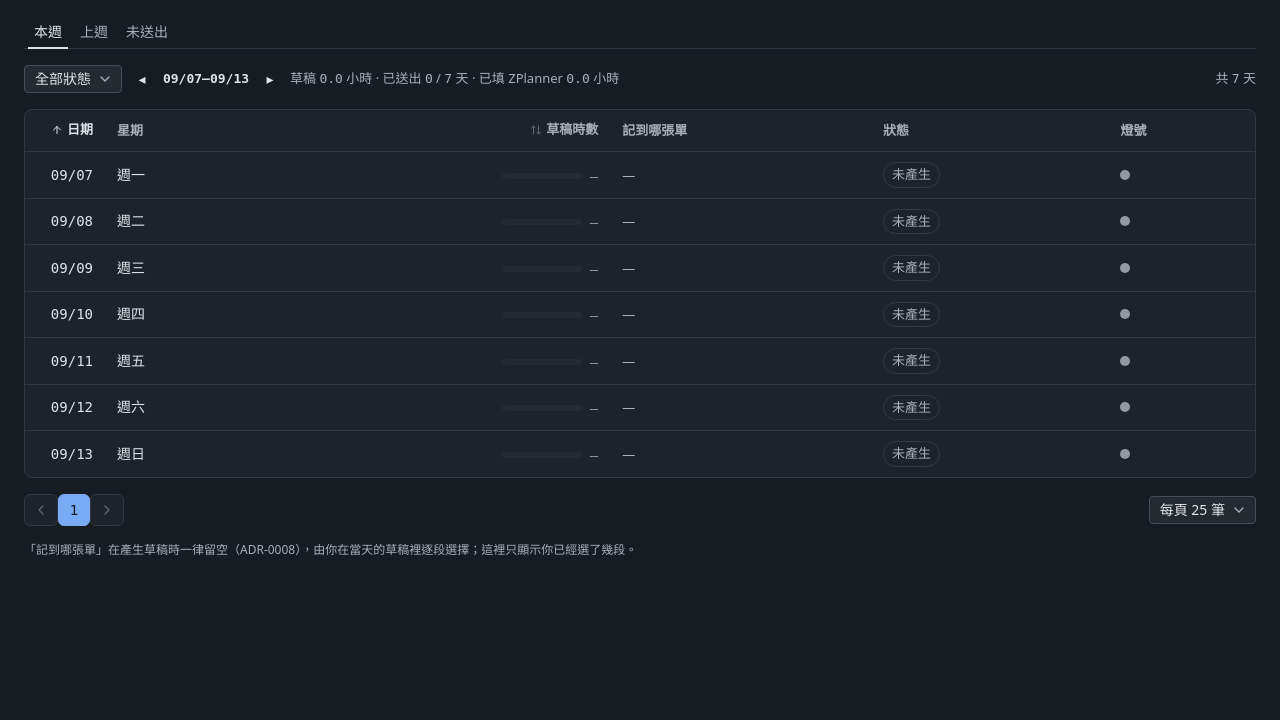
Test: 翻週：可以翻到任何一週（與舊週欄同一套行為） › 翻到兩週前：打的是那一週的 API、畫的是那一週；tab 一顆都不亮；「回到本週」回得來
This screenshot has width=1280, height=720.
Expected: the button "回到本週" is not shown
What coordinates should you click on to do the following:
click the button named "上一週"
I would click on:
 (142, 79)
Its box is [130,67,154,91].
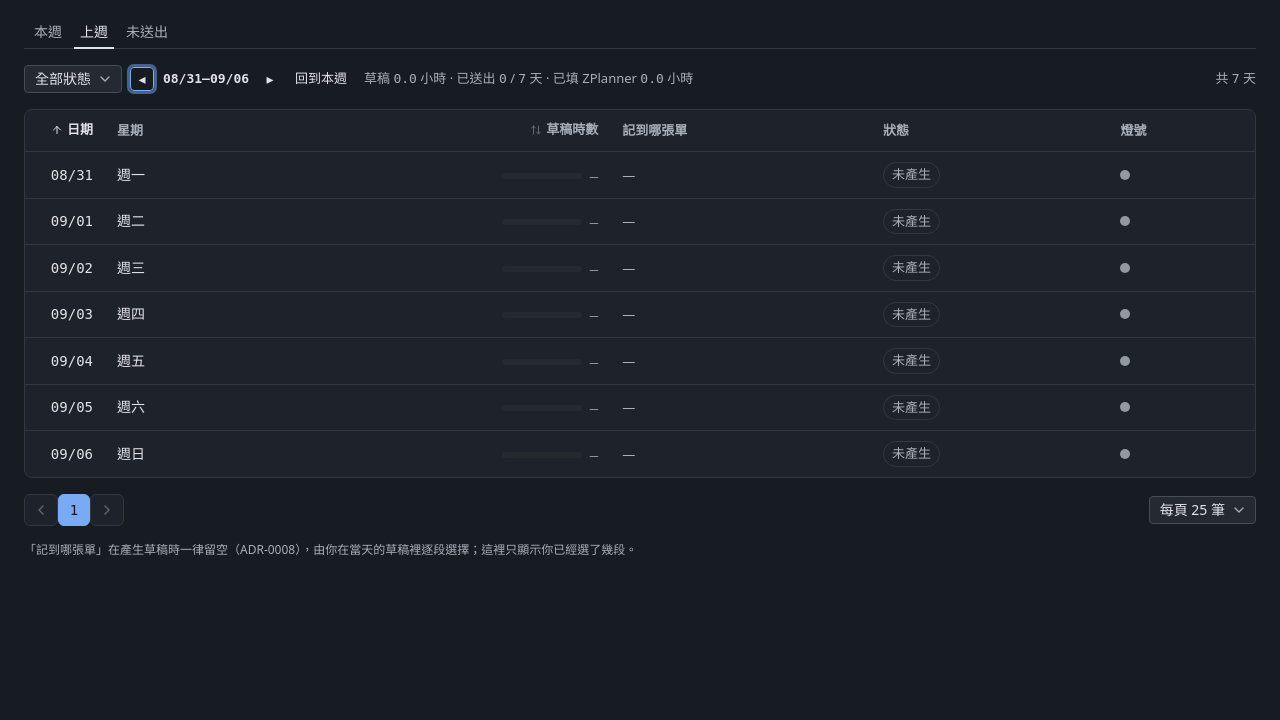
Expected: the text "08/31" is shown, [25,152,105,198]
What coordinates should you click on to do the following:
click the button named "上一週"
I would click on:
 (142, 79)
Its box is [130,67,154,91].
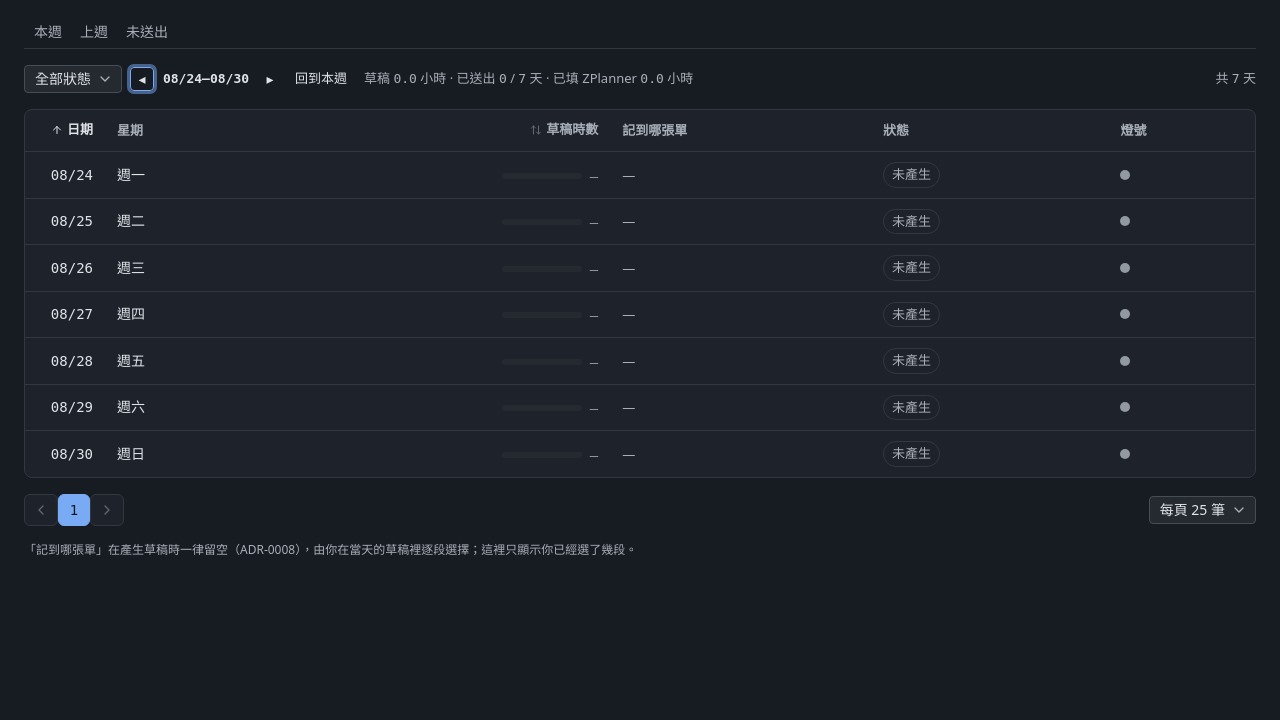
Expected: the text "08/24" is shown, [25,152,105,198]
Expected: the heading named "週次" reads "08/24–08/30", [163,71,249,86]
What coordinates should you click on to do the following:
click the button named "下一週"
I would click on:
 (270, 79)
Its box is [258,67,282,91].
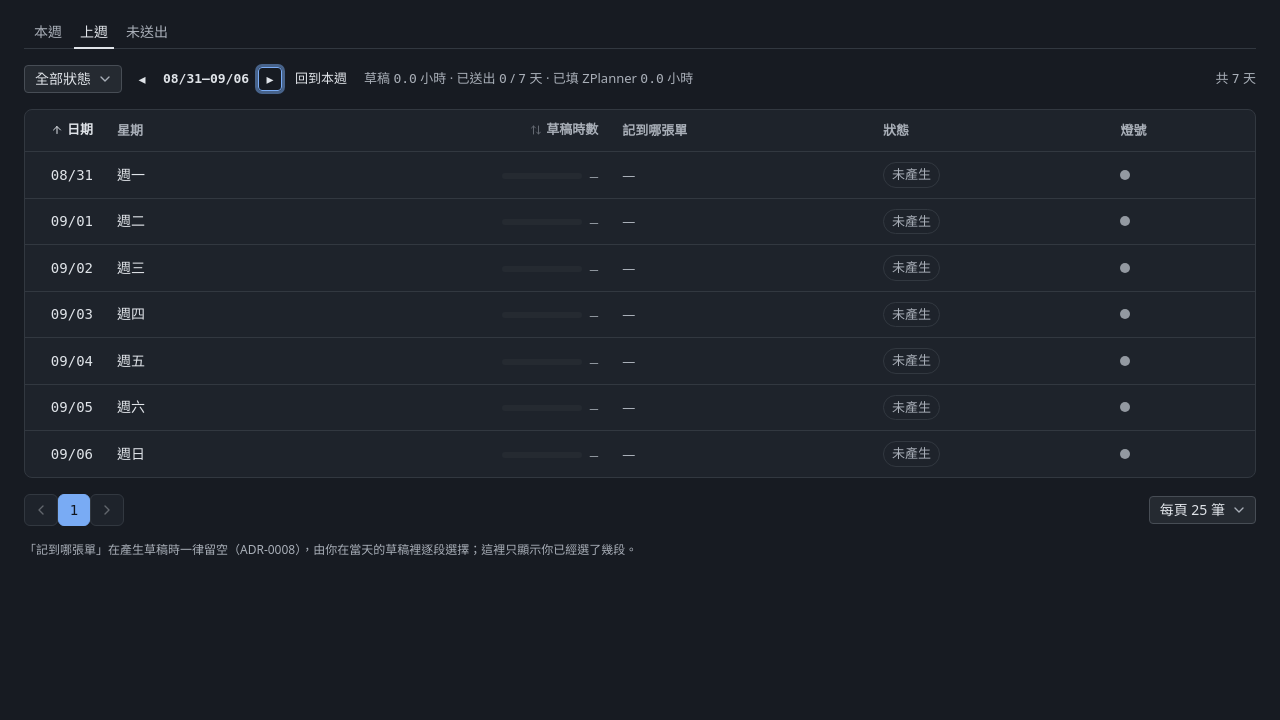
Expected: the text "08/31" is shown, [25,152,105,198]
What coordinates should you click on to do the following:
click the button named "上一週"
I would click on:
 (142, 79)
Its box is [130,67,154,91].
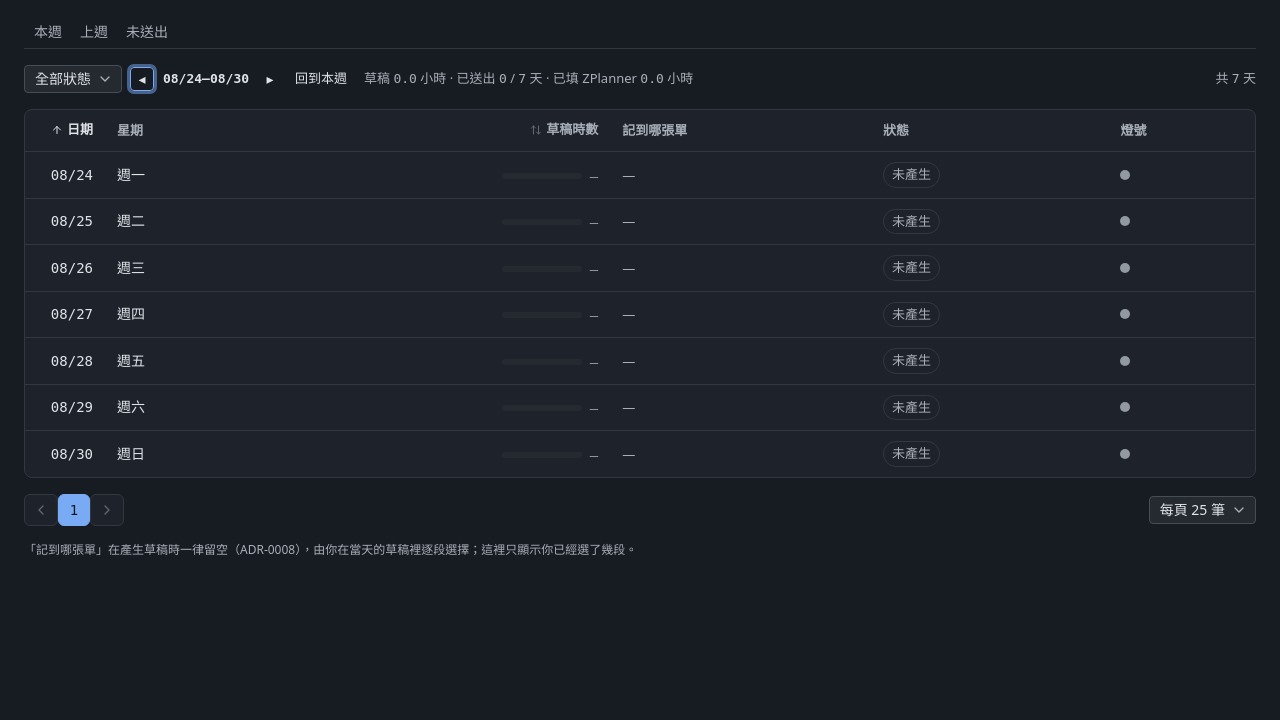
Expected: the text "08/24" is shown, [25,152,105,198]
What coordinates should you click on to do the following:
click the button "回到本週"
I would click on:
 (321, 79)
Its box is [286,67,356,91].
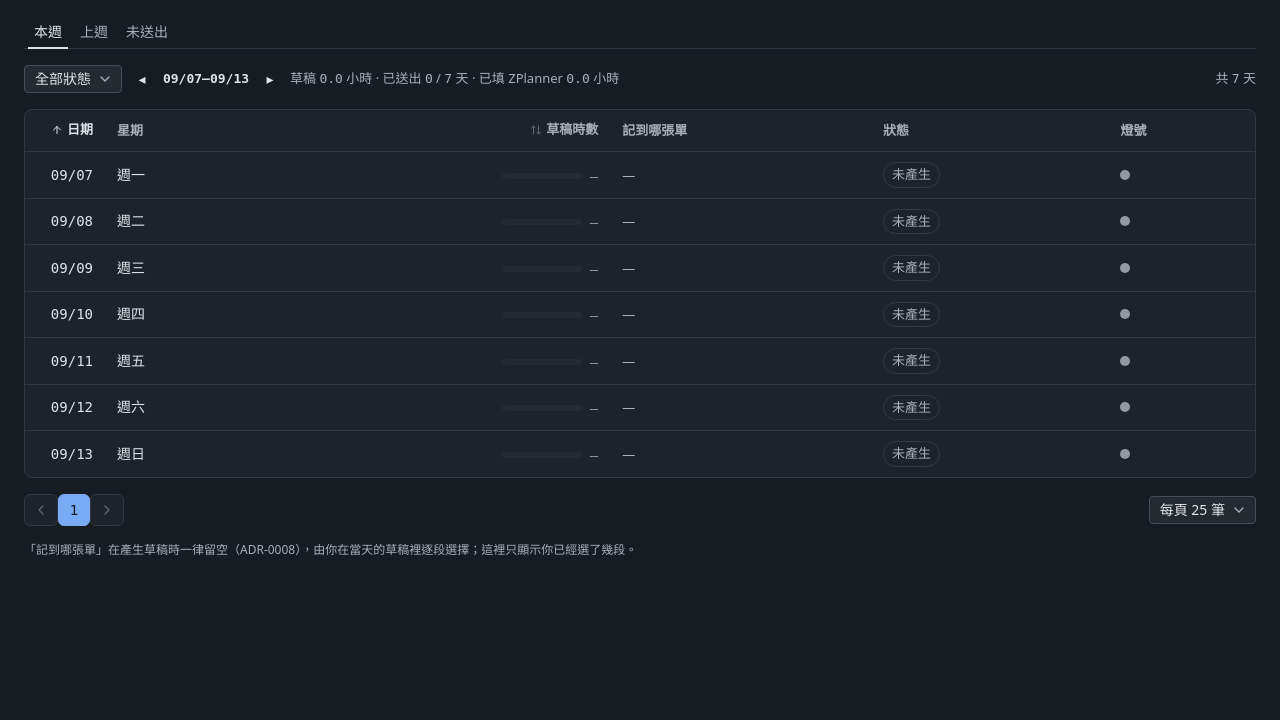
Expected: the text "09/07" is shown, [25,152,105,198]
